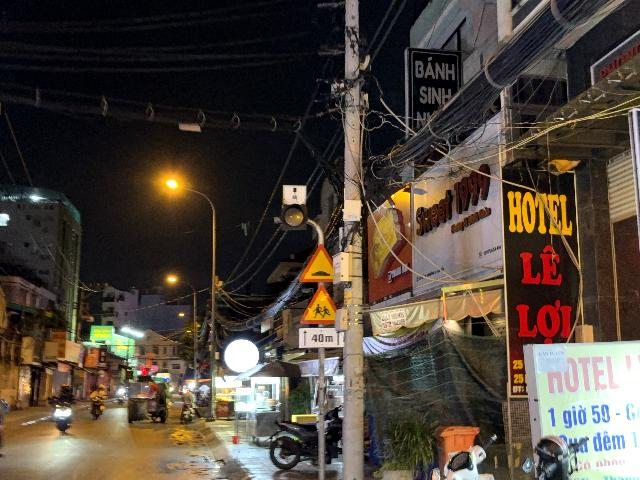duong-co-go-giam-toc: (298, 244, 333, 282)
tre-em-qua-duong: (300, 285, 337, 324)
